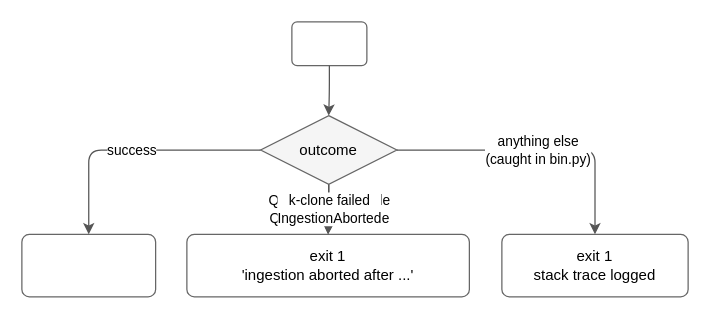
This 710x319 diagram has some shape labels left out. Here are the shapes that lost their labels. From the top down, the centre of each, then its label:
(329,43): run()
(88,265): exit 0 run recorded
